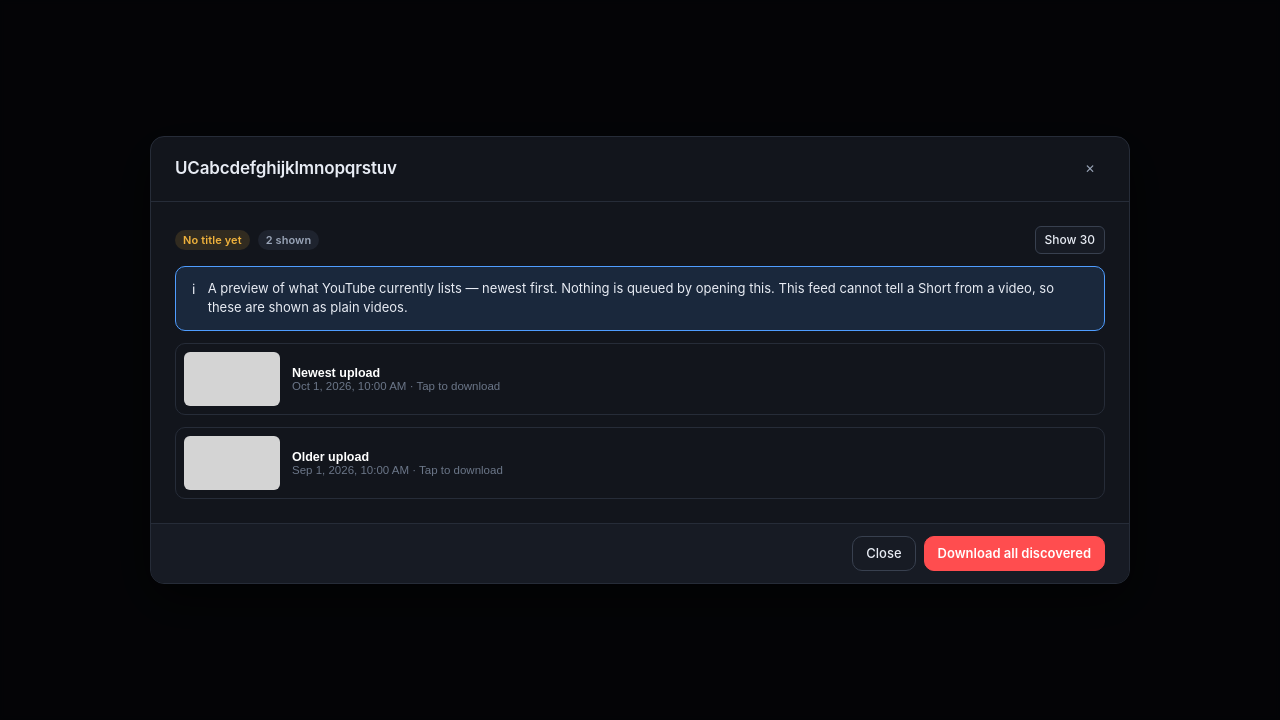
Test: Download all is always previewed first › lets the user back out without queueing anything
This screenshot has width=1280, height=720.
Expected: the text "Newest upload" is shown, [292, 366, 380, 380]
What coordinates should you click on to do the following:
click the button "Download all discovered"
I would click on:
 (1014, 554)
Its box is [924, 536, 1105, 571].
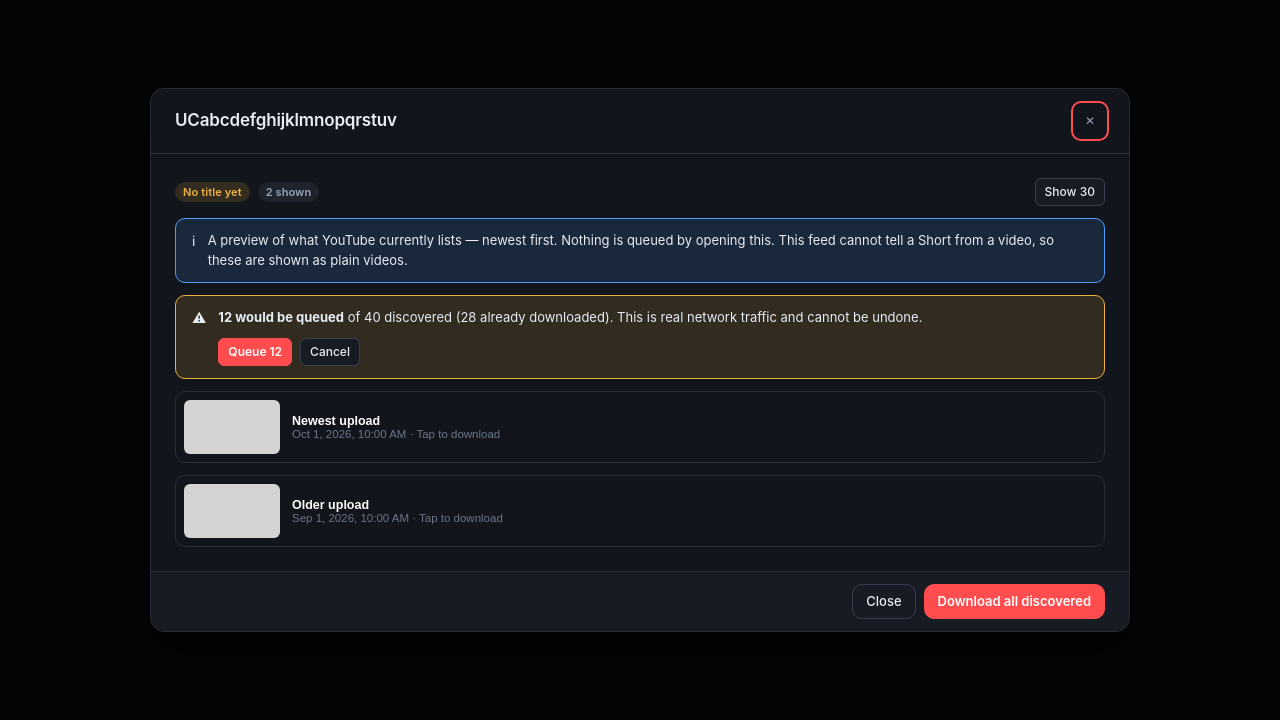
What coordinates should you click on to do the following:
click the button "Cancel"
I would click on:
 (330, 352)
Its box is [300, 338, 360, 366].
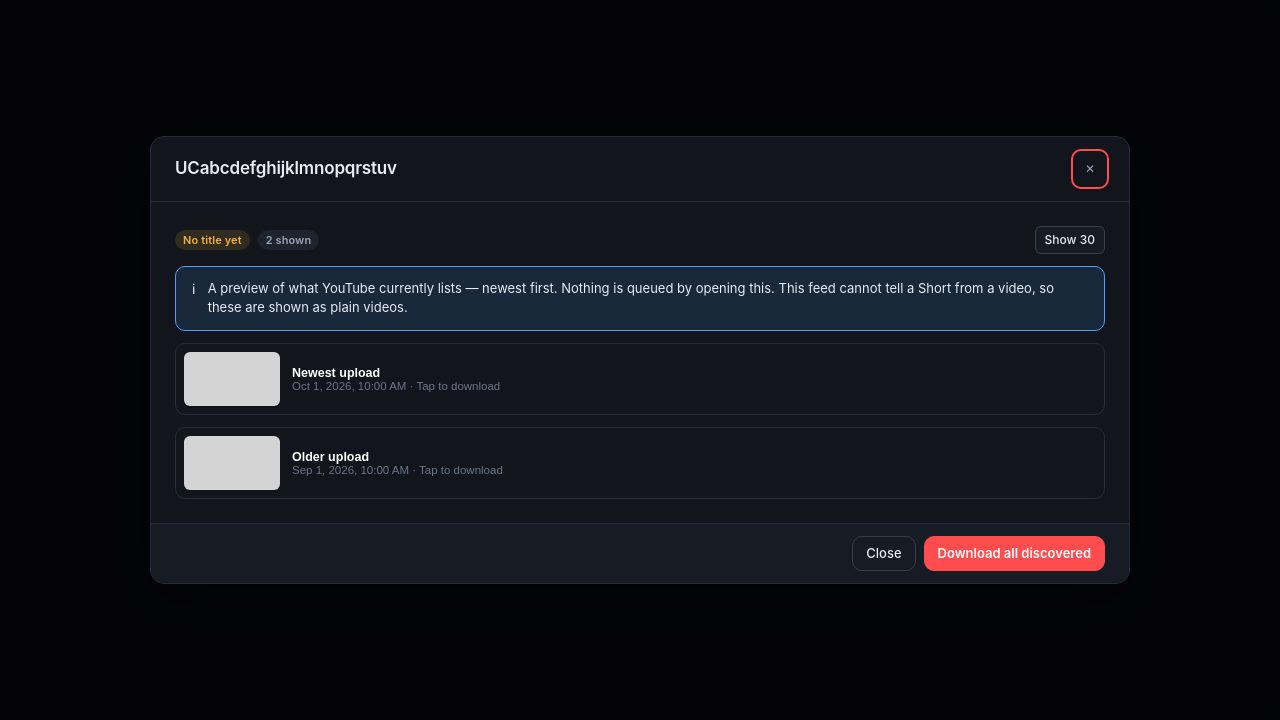
Expected: the text "would be queued" is gone
